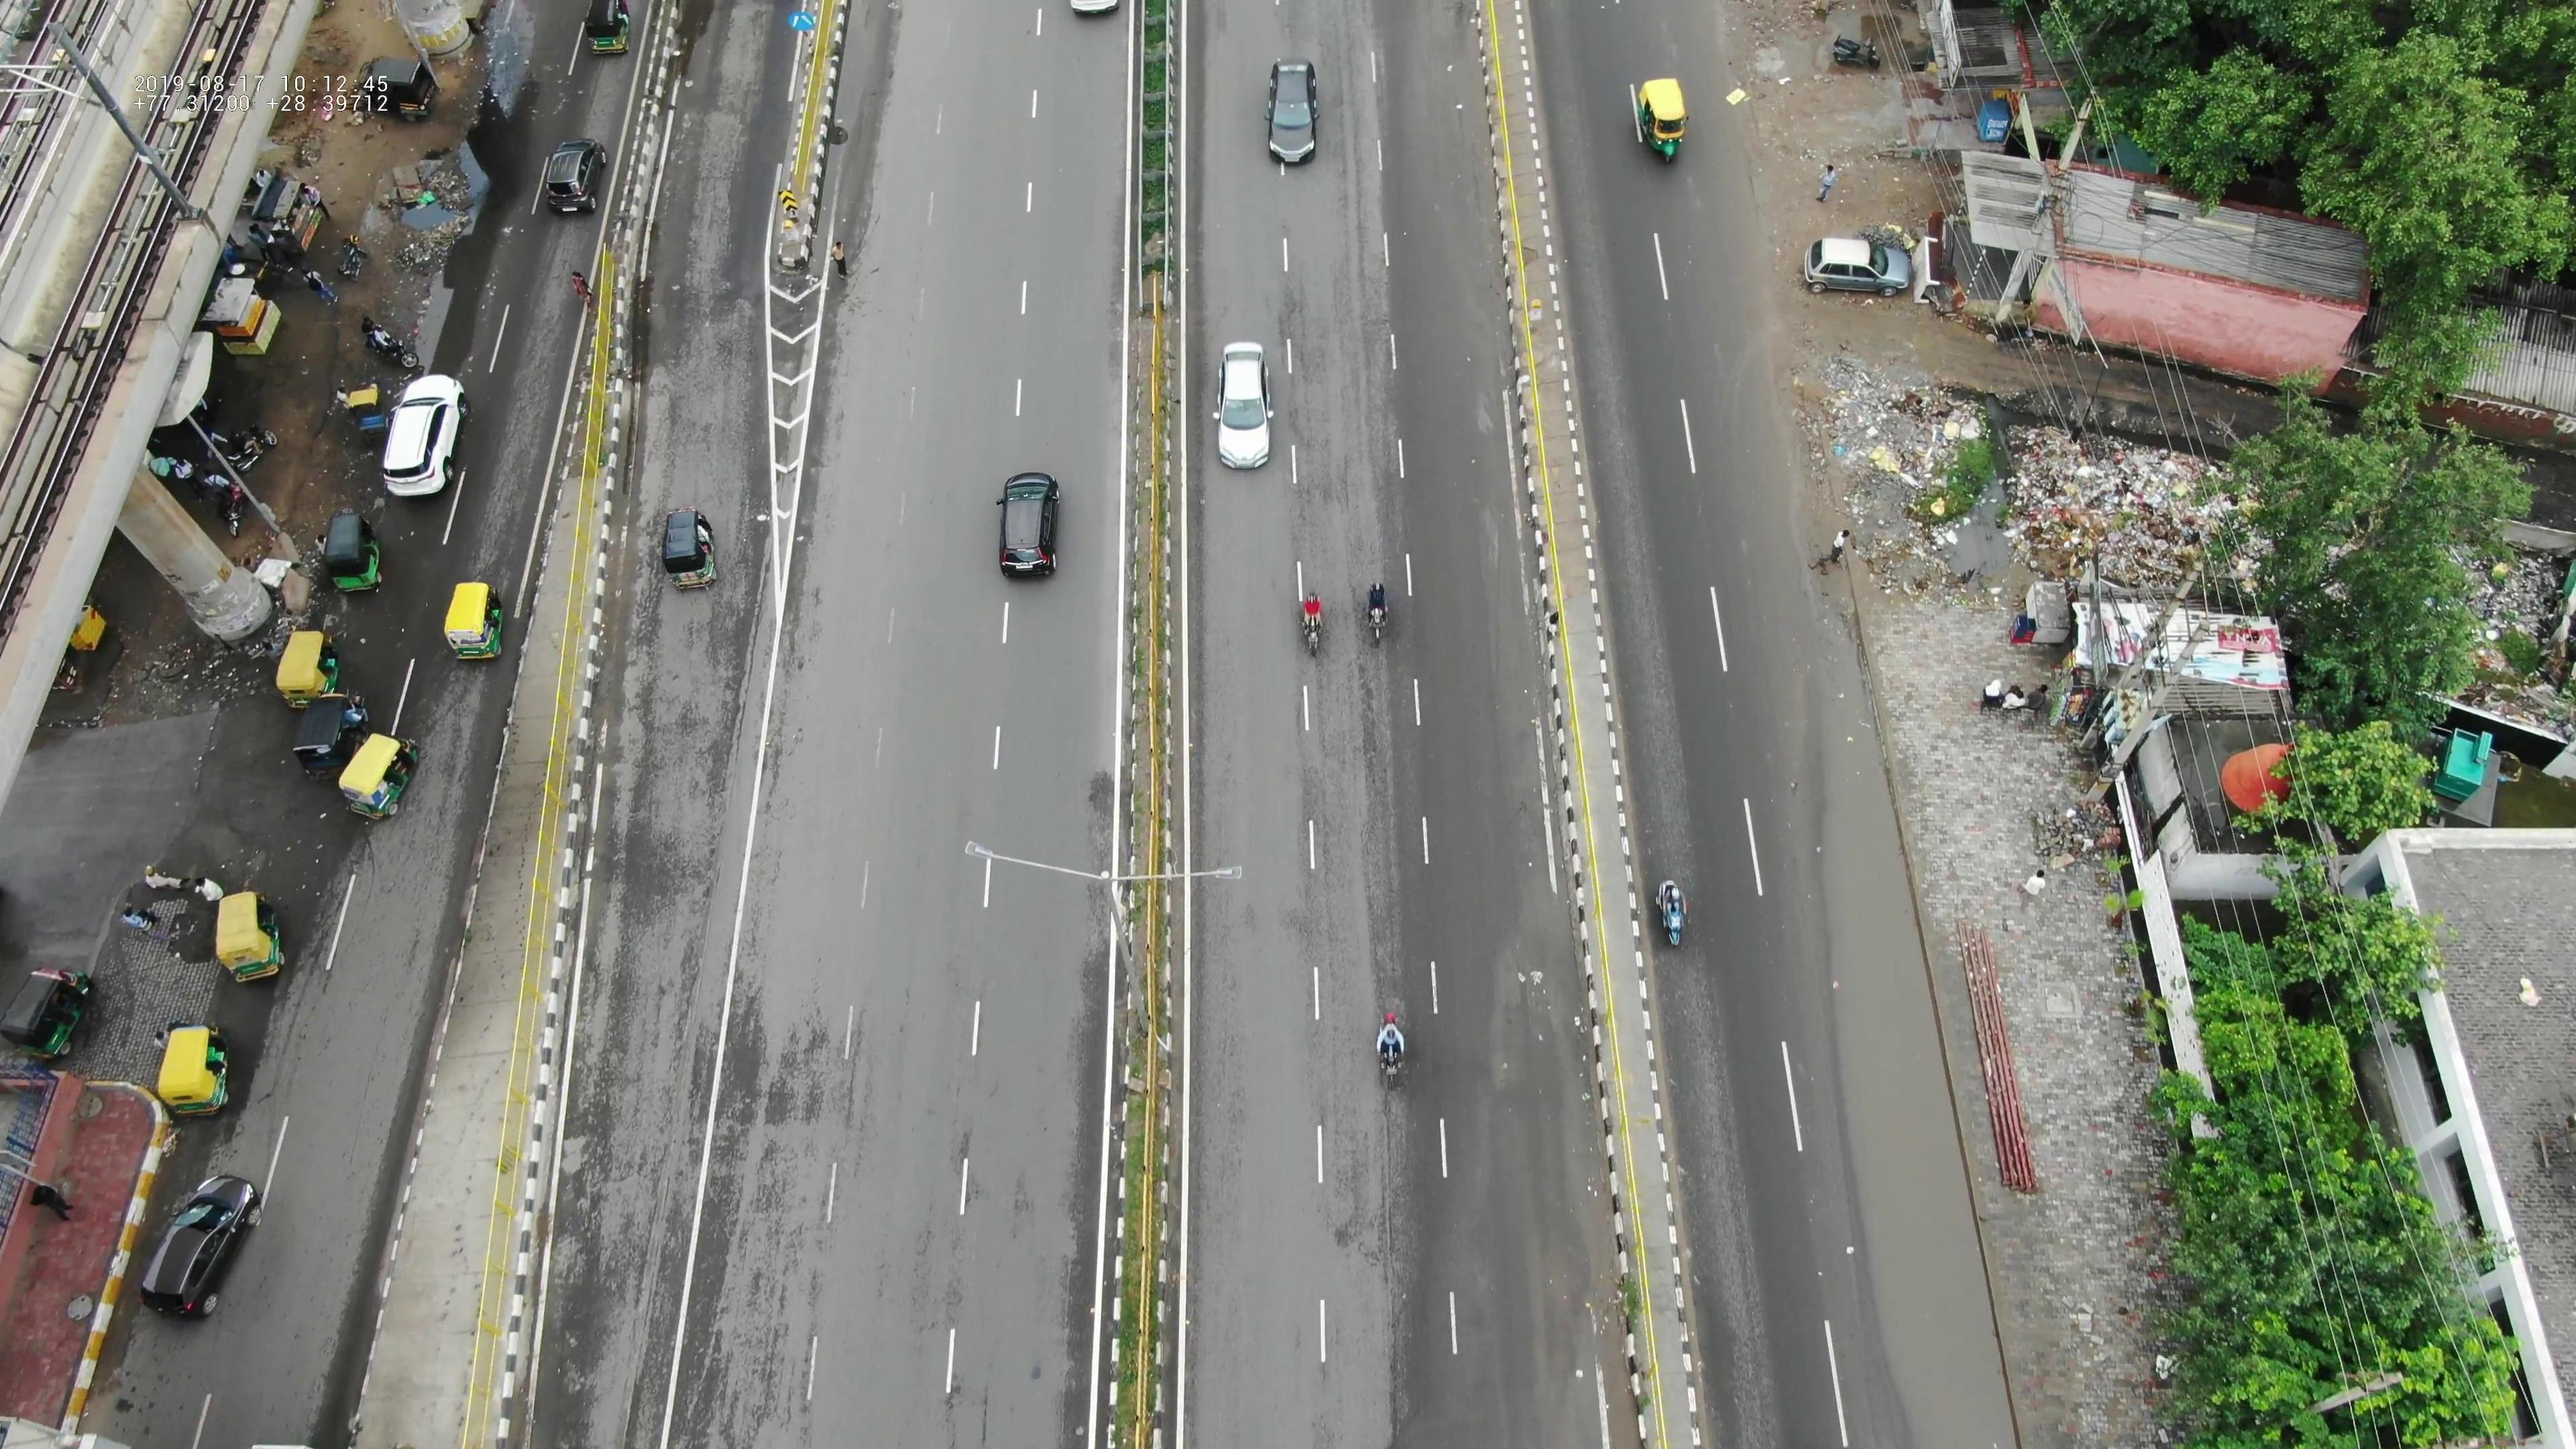Waterlogging: (1806, 734, 1959, 1322)
